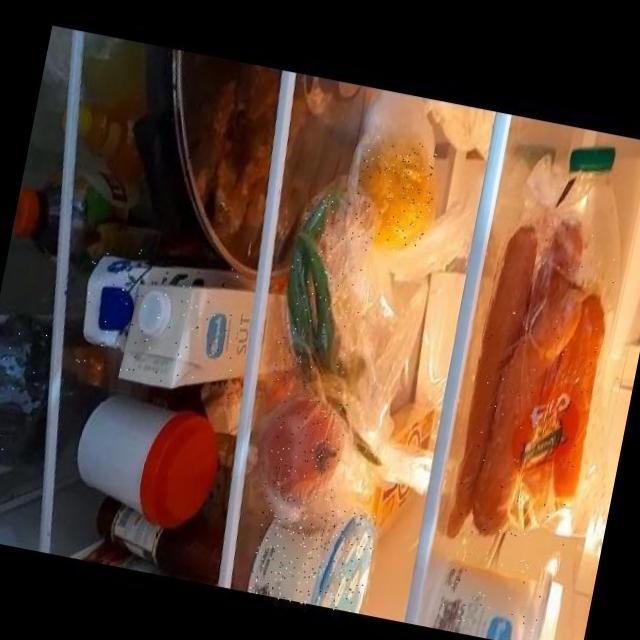Yogur: (246, 492, 381, 616), (434, 546, 556, 640)
Zanahoria: (451, 213, 624, 550)
